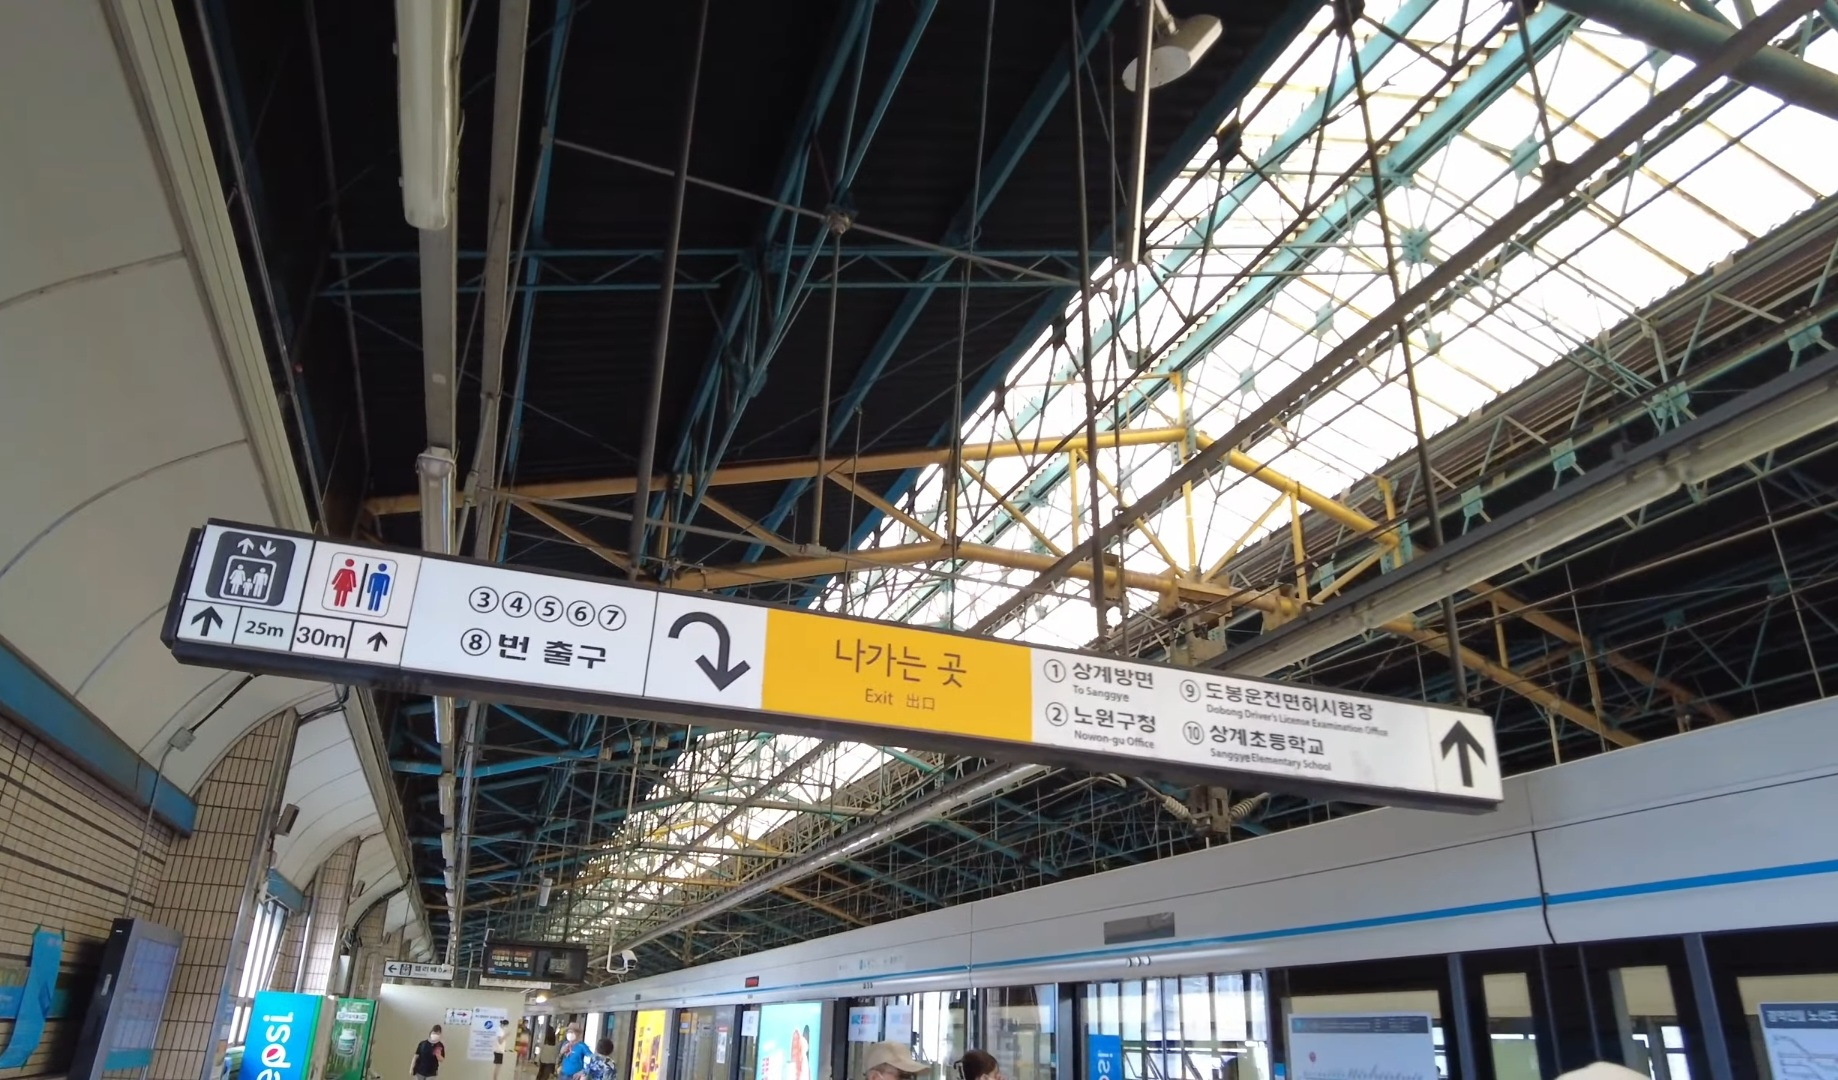signBoard: (158, 508, 1512, 816)
